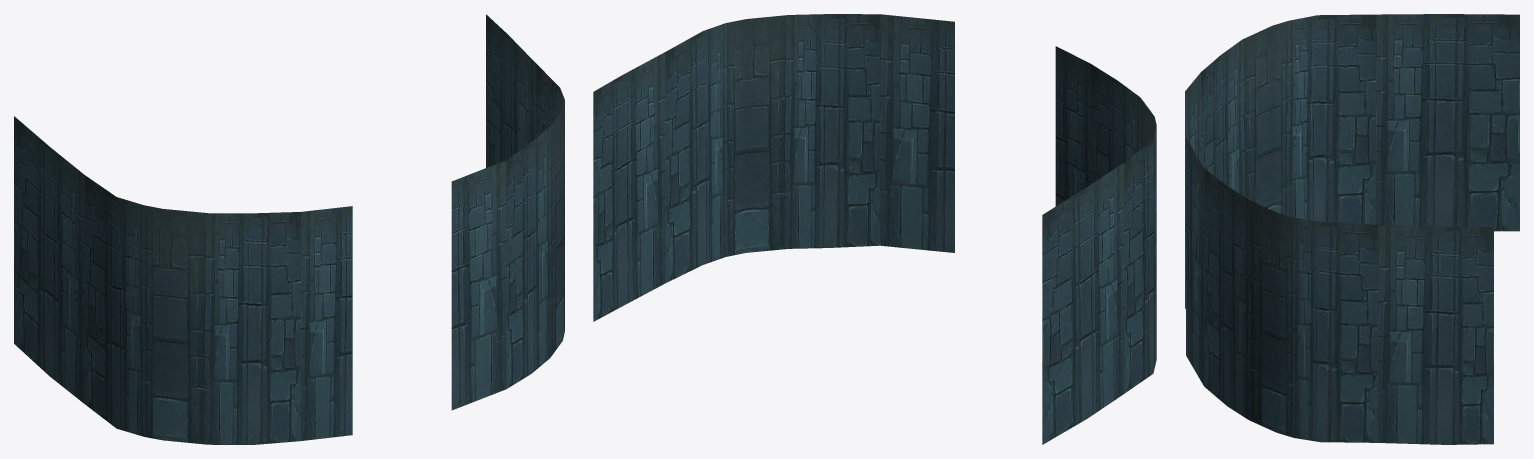
Rendered from moba_q01.FBX.
3 views of the same model, side by side, from view 1: azimuth 30°, elevation 25°; view 2: azimuth 150°, elevation 25°; view 3: azimuth 270°, elevation 25° (orthographic). The views are drawn at different scales.
Visible parts, largest first — view 1: moba_q01; view 2: moba_q01; view 3: moba_q01.
Part boxes in pixels (x1,y1,x2,y2): moba_q01: [14, 14, 564, 444]; moba_q01: [593, 14, 1156, 444]; moba_q01: [1185, 14, 1519, 444].
Bounding box in the file's own units: 1441 × 947 × 696.
